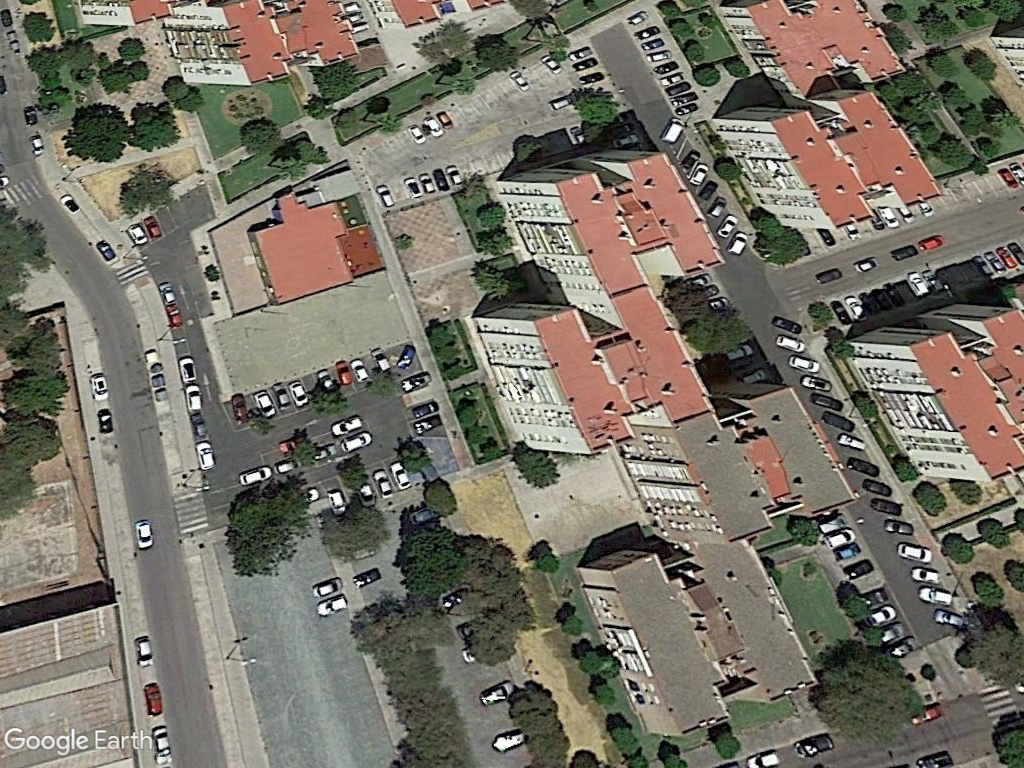car: (249, 388, 281, 422), (325, 414, 370, 438), (370, 466, 397, 505), (232, 464, 278, 486), (141, 680, 165, 722), (148, 723, 176, 759), (132, 633, 157, 673), (130, 516, 157, 553), (307, 576, 346, 601), (193, 435, 217, 474), (180, 381, 205, 418), (286, 378, 313, 411), (372, 182, 397, 214)
truck: (656, 114, 688, 147)
